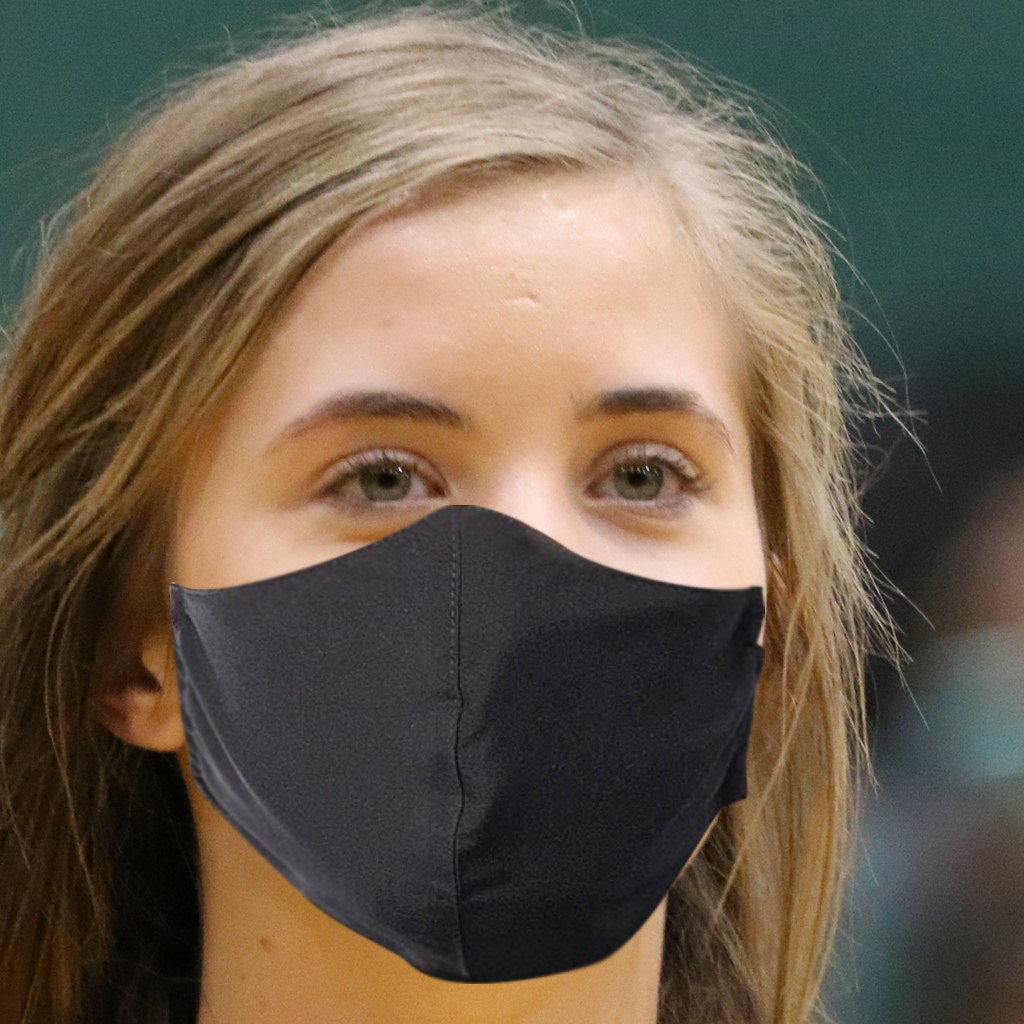con_mascara: (150, 147, 774, 936)
